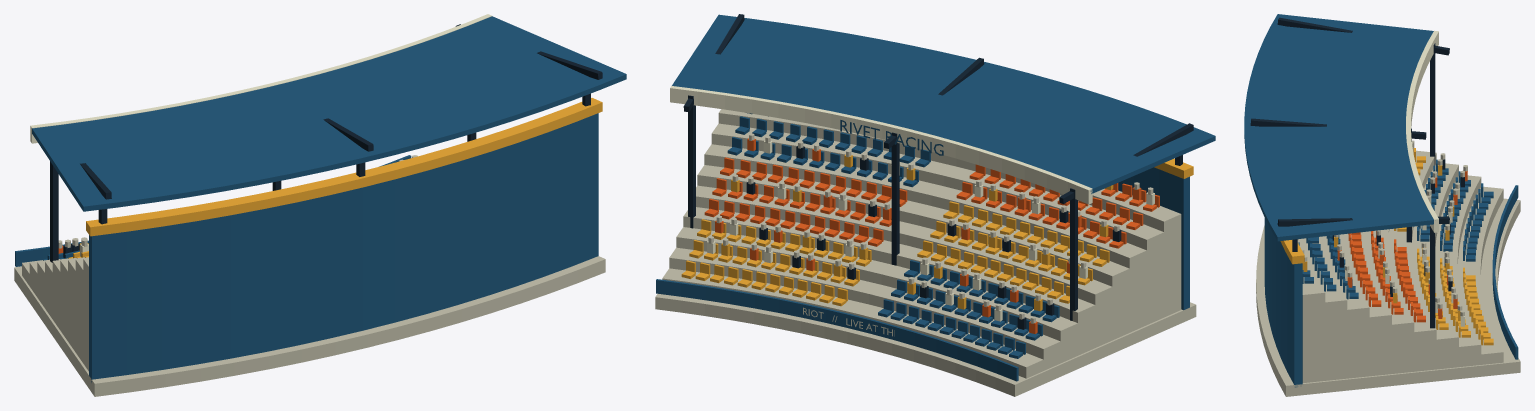
Rendered from curved_grandstand.glb.
3 views of the same model, side by side, from view 1: azimuth 30°, elevation 25°; view 2: azimuth 150°, elevation 25°; view 3: azimuth 270°, elevation 25° (orthographic). The views are drawn at different scales.
Parts seen in each view (by area): view 1: RearWall, CanopyPanels, Foundations, RearParapet, SteppedTerraces, CanopyLeadingFascia, Columns, CanopyRibs, FrontAdBand; view 2: SteppedTerraces, CanopyPanels, SeatBacks, SeatPans, Foundations, CanopyLeadingFascia, Crowd, FrontAdBand, Columns, CrowdHeads, RearWall, CanopyRibs (+2 smaller); view 3: CanopyPanels, SteppedTerraces, Foundations, SeatPans, RearWall, SeatBacks, CanopyRibs, Crowd, CanopyLeadingFascia, Columns, CrowdHeads, FrontAdBand (+2 smaller).
Part boxes in pixels (<box>): RearWall: <box>89,113,598,382</box>; CanopyPanels: <box>32,16,626,211</box>; Foundations: <box>14,256,605,396</box>; RearParapet: <box>86,98,602,236</box>; SteppedTerraces: <box>22,257,88,371</box>; CanopyLeadingFascia: <box>30,14,491,143</box>; Columns: <box>50,93,590,262</box>; CanopyRibs: <box>80,24,602,199</box>; FrontAdBand: <box>15,155,411,266</box>; SteppedTerraces: <box>662,109,1181,378</box>; CanopyPanels: <box>672,14,1215,193</box>; SeatBacks: <box>686,116,1159,354</box>; SeatPans: <box>681,113,1156,358</box>; Foundations: <box>655,294,1196,396</box>; CanopyLeadingFascia: <box>670,86,1092,204</box>; Crowd: <box>707,138,1154,333</box>; FrontAdBand: <box>656,279,1018,381</box>; Columns: <box>688,95,1182,320</box>; CrowdHeads: <box>708,133,1153,323</box>; RearWall: <box>1118,167,1189,310</box>; CanopyRibs: <box>683,14,1193,203</box>; CanopyPanels: <box>1244,14,1433,241</box>; SteppedTerraces: <box>1298,140,1503,382</box>; Foundations: <box>1256,198,1520,396</box>; SeatPans: <box>1298,156,1493,345</box>; RearWall: <box>1264,218,1302,387</box>; SeatBacks: <box>1302,148,1483,345</box>; CanopyRibs: <box>1250,17,1449,226</box>; Crowd: <box>1297,159,1467,326</box>; CanopyLeadingFascia: <box>1406,30,1438,232</box>; Columns: <box>1292,43,1435,328</box>; CrowdHeads: <box>1297,153,1467,316</box>; FrontAdBand: <box>1492,185,1518,359</box>.
Size of the model in its own units: 31.03 by 11.19 by 16.24.
